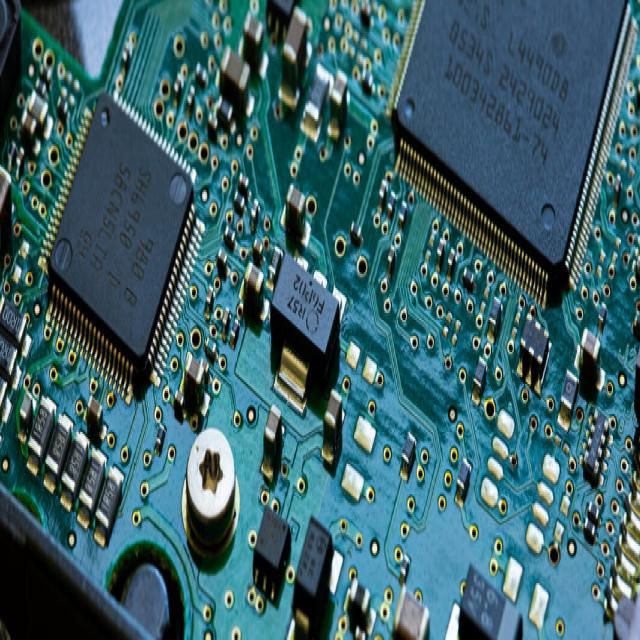pcb: (1, 2, 638, 636), (270, 249, 340, 377), (457, 560, 523, 636), (292, 512, 333, 631), (252, 503, 290, 603)
